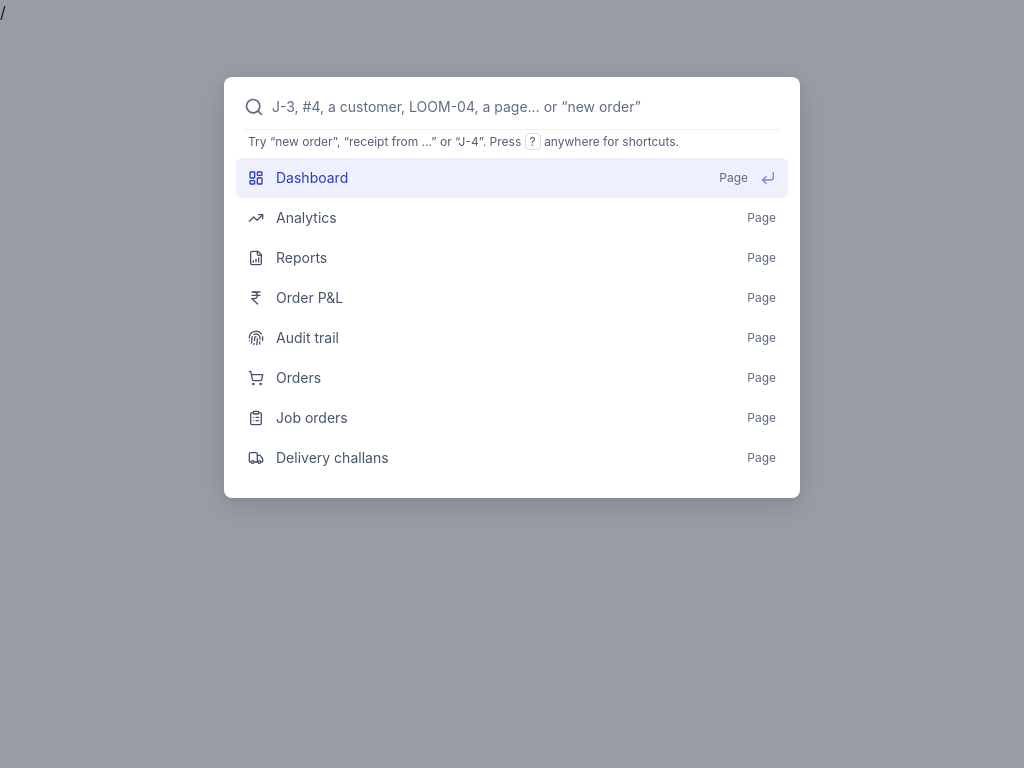
Test: actions in search › “pay Lakshmi” looks among the suppliers
This screenshot has width=1024, height=768.
In the field named "Search everything": (526, 107) [272,97,780,117], type "pay Lakshmi"
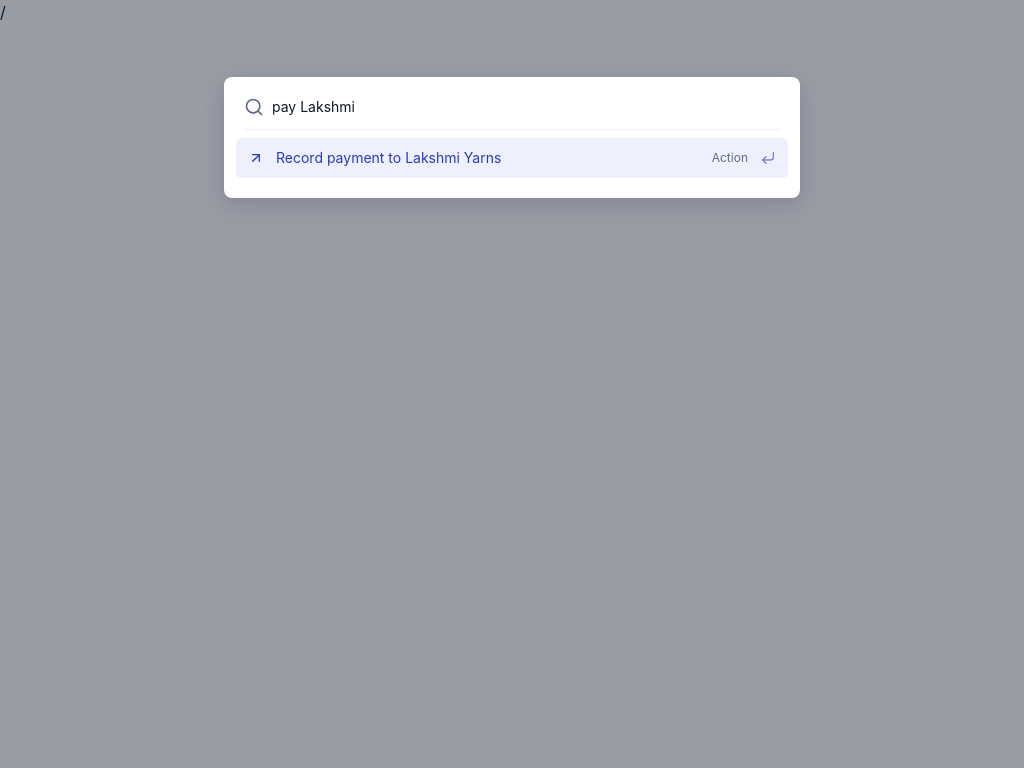
Now the button "Record payment to Lakshmi Yarns Action" is shown, box [236,138,788,178]
